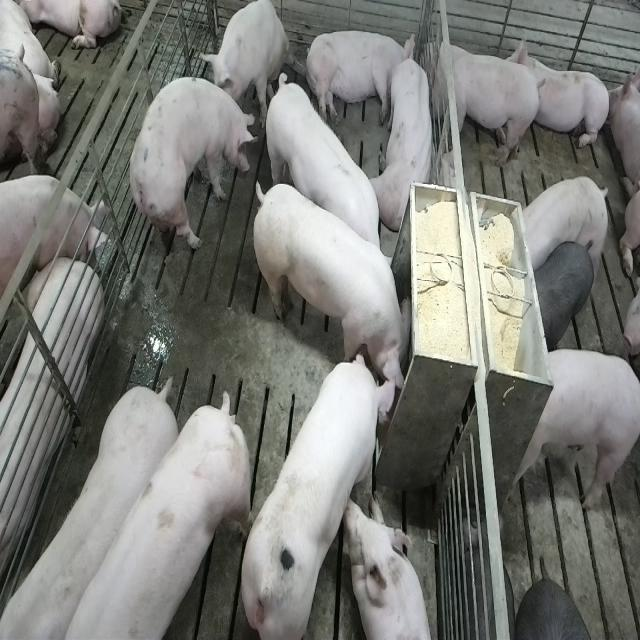Feeding: (236, 349, 402, 635), (256, 176, 419, 408)
Lateral_lying: (0, 254, 100, 616), (304, 28, 416, 128)
Sitting: (203, 2, 293, 123)
Standing: (52, 391, 249, 640), (0, 380, 175, 640), (261, 72, 394, 288), (506, 348, 638, 512), (129, 75, 260, 236), (422, 32, 542, 170), (0, 173, 107, 310), (512, 176, 610, 276), (532, 237, 597, 348)
Sternal_lying: (348, 495, 434, 640), (513, 32, 612, 154), (374, 48, 437, 232)
